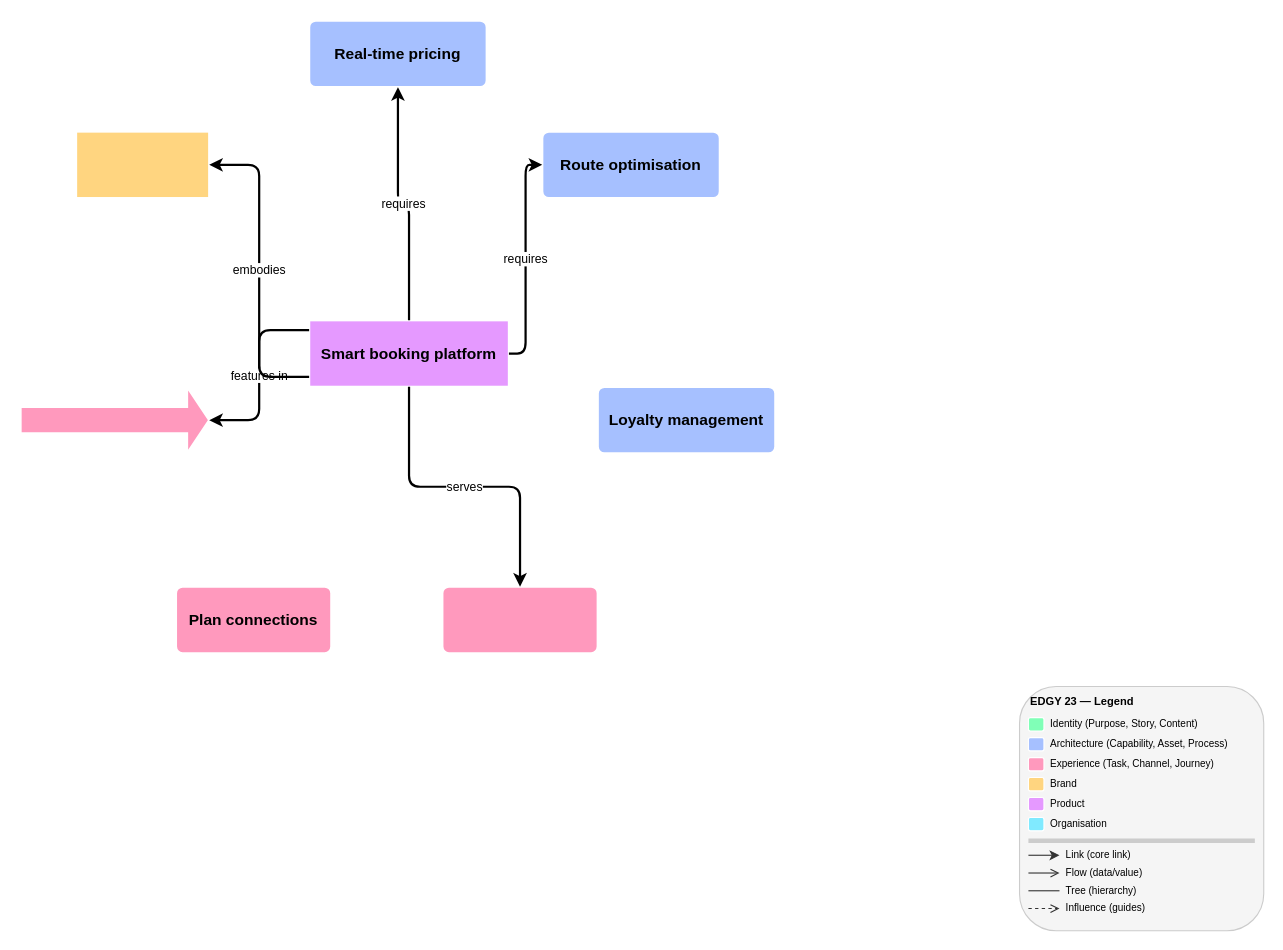
This 1283x950 diagram has some shape labels left out. Here are the shapes that lost their labels. From the top down, the centre of each, then its label:
At (142,164): "Nordic Trains".
At (114,419): "First-time traveller".
At (519,619): "Buy ticket".
